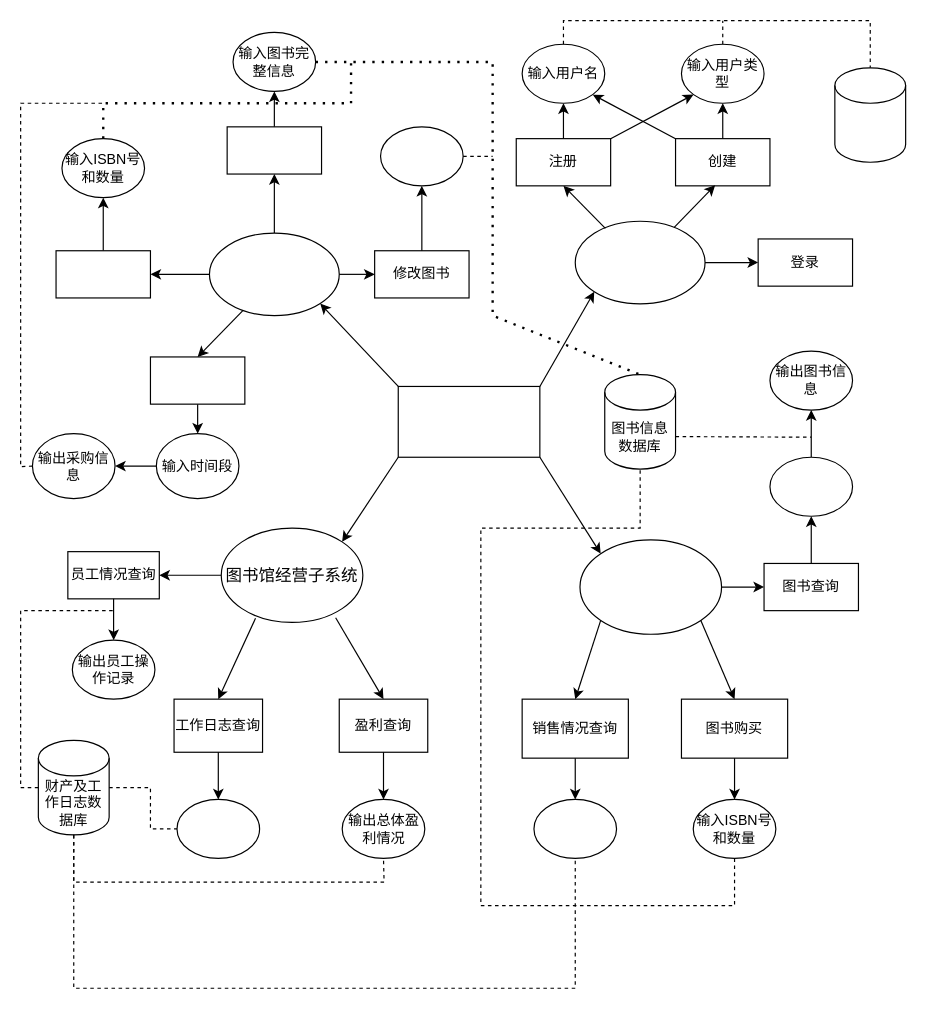
The diagram is 926 pixels wide and 1010 high, and some of its shapes have lost their labels. Here are the shapes that lost their labels. From the top down, the box of each, then its label:
(834, 67, 906, 162): 用户信息数据库
(226, 126, 322, 174): 录入图书
(379, 126, 463, 186): 输入修改信息
(55, 250, 150, 298): 采购
(208, 232, 339, 316): 图书管理子系统
(574, 220, 705, 304): 账号管理子系统
(149, 356, 245, 404): 采购信息查询
(397, 385, 540, 457): 书店管理系统
(769, 456, 853, 516): 输入查询信息
(579, 539, 722, 634): 图书销售子系统
(176, 798, 260, 858): 输出工作日志
(533, 798, 617, 858): 输出销售情况
